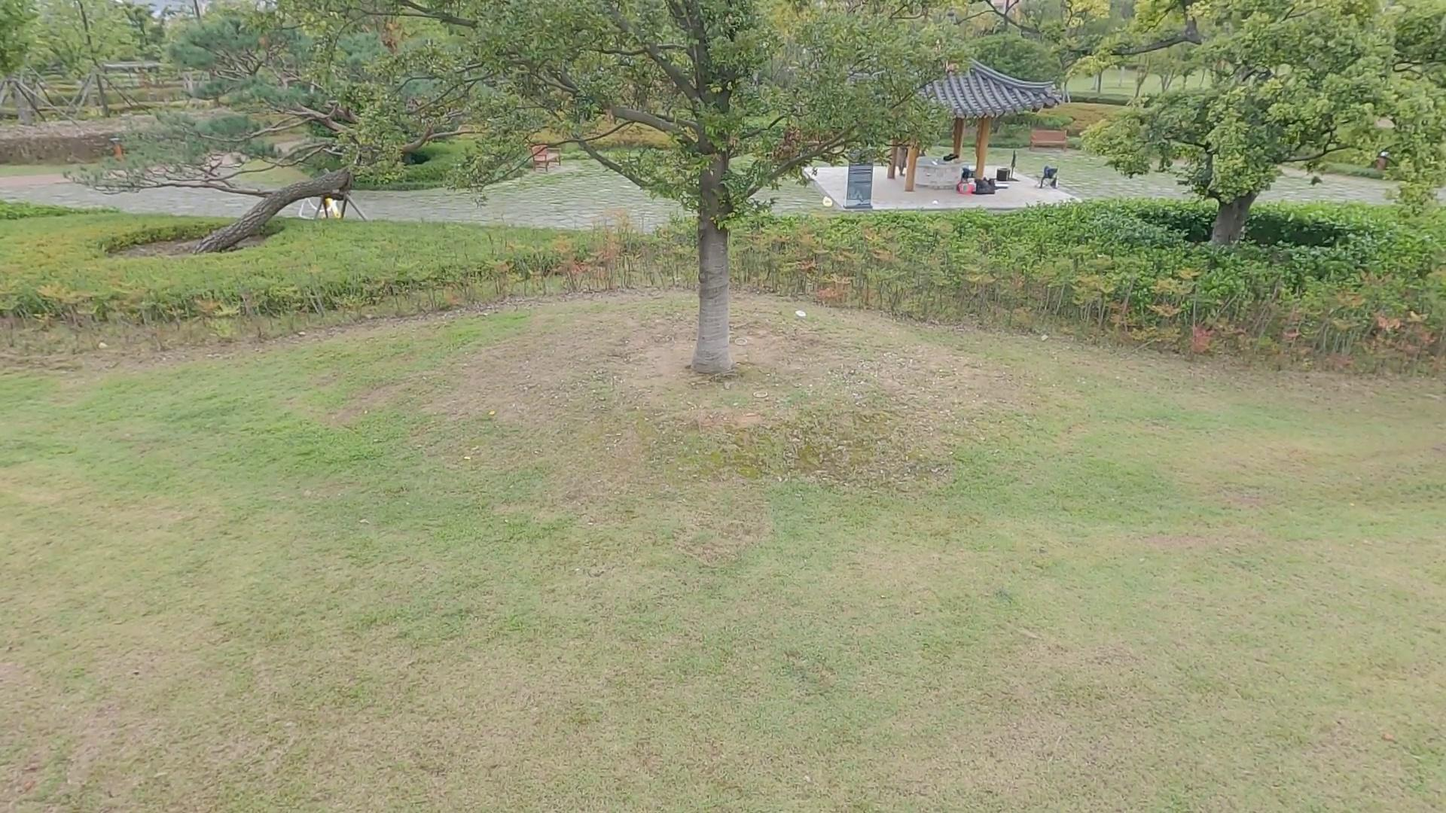trash: (822, 196, 834, 207), (795, 309, 807, 319), (932, 199, 939, 206)
